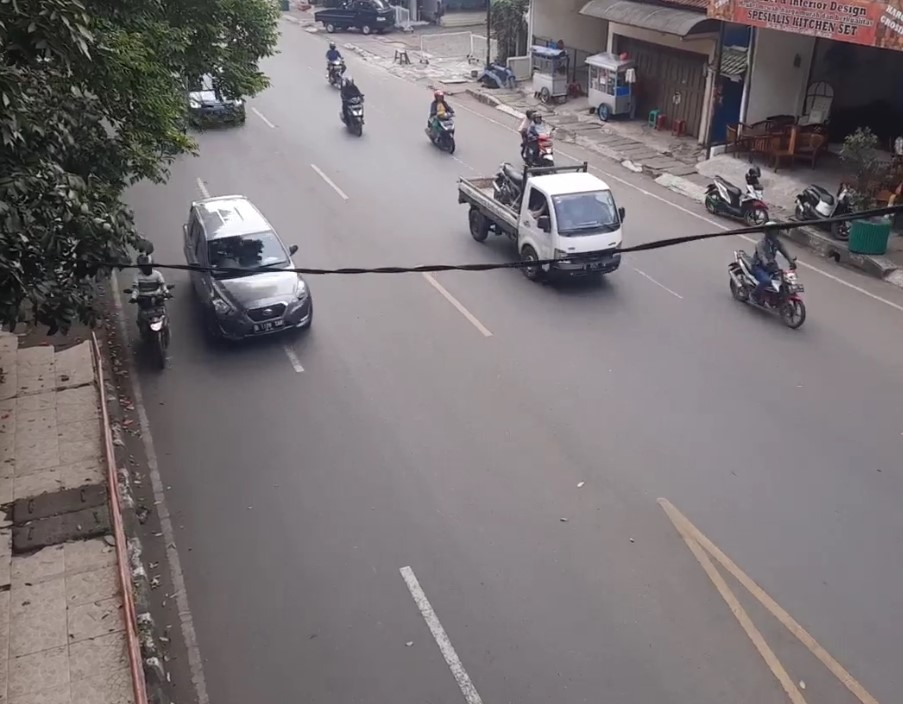mobil: (204, 230, 313, 347), (548, 190, 622, 284)
motor: (727, 222, 818, 332), (125, 254, 181, 373), (518, 111, 563, 173), (336, 78, 370, 139), (426, 91, 456, 157), (321, 45, 348, 87)
